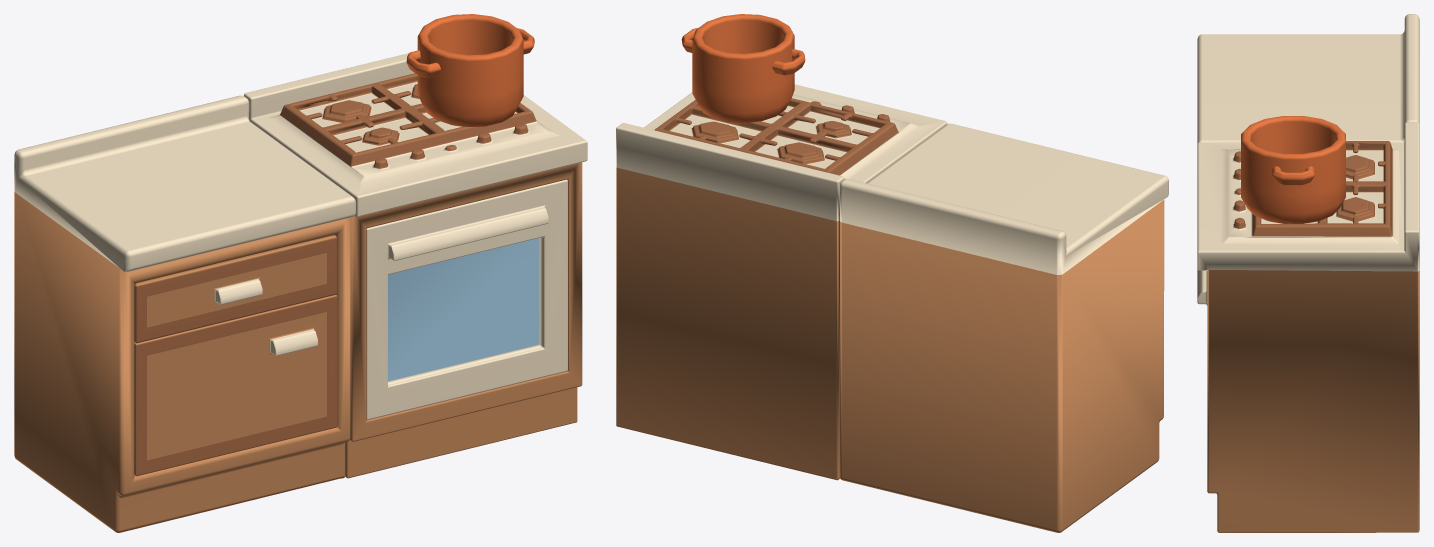
The model's file is interest_food_v3_8.glb.
3 views of the same model, side by side, from view 1: azimuth 30°, elevation 25°; view 2: azimuth 150°, elevation 25°; view 3: azimuth 270°, elevation 25° (orthographic). The views are drawn at different scales.
Parts seen in each view (by area): view 1: kitchen_counter_cabinet, kitchen_counter_stove, kitchen_counter_oven_door, kitchen_counter_cabinet_door, kitchen_counter_drawer, cooking_pot_body; view 2: kitchen_counter_cabinet, kitchen_counter_stove, cooking_pot_body; view 3: kitchen_counter_stove, kitchen_counter_cabinet, cooking_pot_body, kitchen_counter_oven_door.
Boxes of the visible parts, <box> form: kitchen_counter_cabinet: <box>14,95,355,532</box>; kitchen_counter_stove: <box>244,53,587,478</box>; kitchen_counter_oven_door: <box>366,179,567,419</box>; kitchen_counter_cabinet_door: <box>134,295,337,476</box>; kitchen_counter_drawer: <box>134,235,336,343</box>; cooking_pot_body: <box>406,14,534,126</box>; kitchen_counter_cabinet: <box>840,123,1168,532</box>; kitchen_counter_stove: <box>616,84,947,480</box>; cooking_pot_body: <box>681,14,805,123</box>; kitchen_counter_stove: <box>1197,122,1419,532</box>; kitchen_counter_cabinet: <box>1197,14,1419,143</box>; cooking_pot_body: <box>1241,116,1345,223</box>; kitchen_counter_oven_door: <box>1197,269,1207,305</box>.
Size of the model in its own units: 1.25 by 0.9703 by 0.534.
